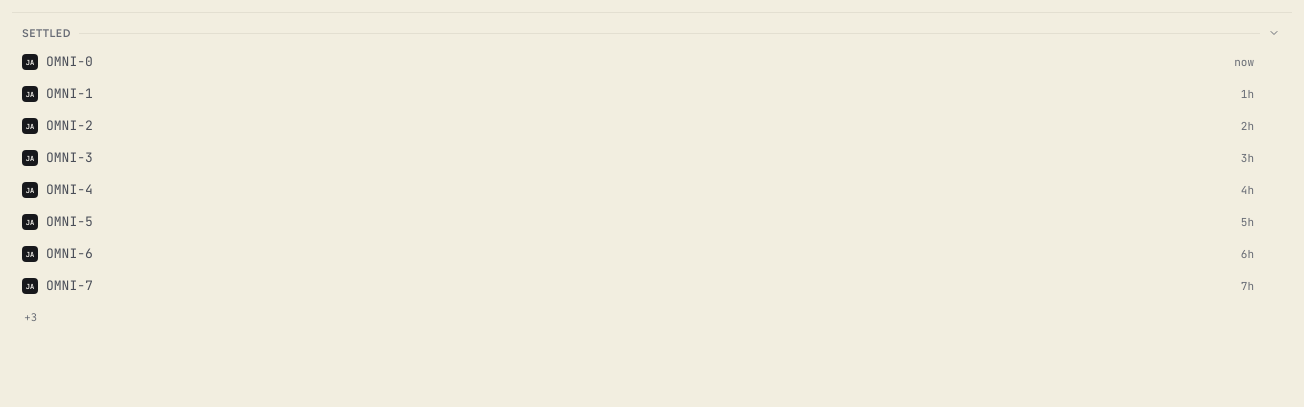
the sessions list › says +N for the hidden settled rows in the rail, still named Show N more
Click the button named "Show 3 more". click: (30, 317)
box: [12,303,1292,331]
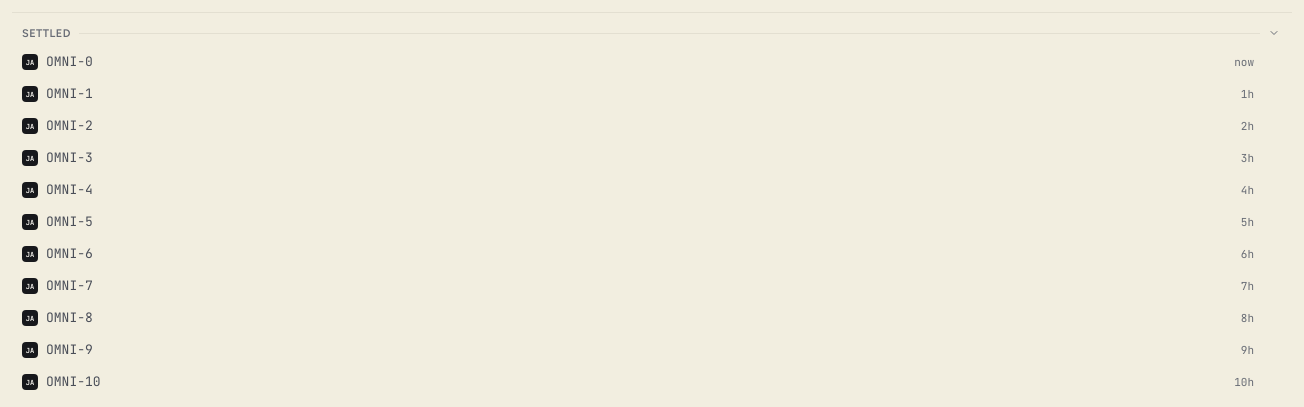
Expected: the number of buttons "JA OMNI-0 now" is 11
